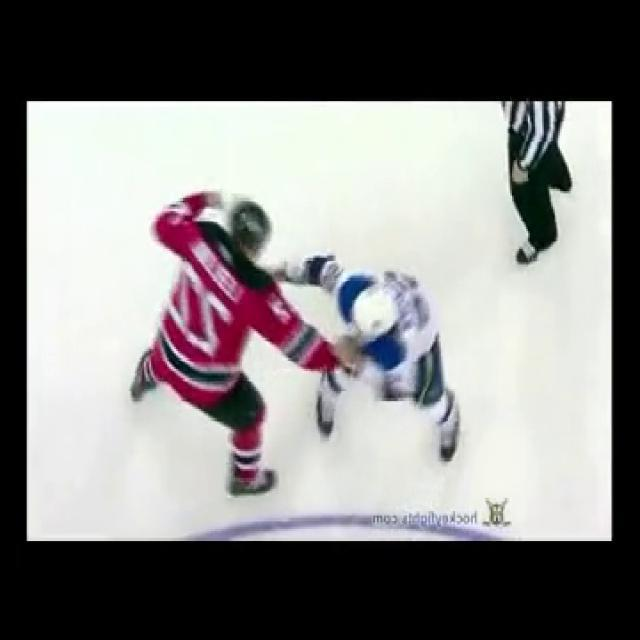non-violence: (499, 105, 577, 262)
violence: (128, 188, 460, 497)
